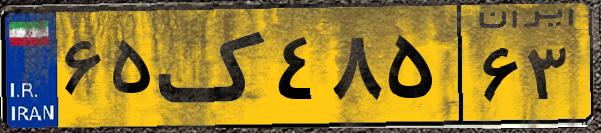3: (525, 38, 570, 115)
4: (270, 28, 330, 110)
5: (385, 28, 445, 110), (110, 28, 158, 98)
6: (57, 26, 110, 100), (475, 38, 525, 113)
8: (330, 28, 385, 110)
ک: (158, 12, 270, 120)
